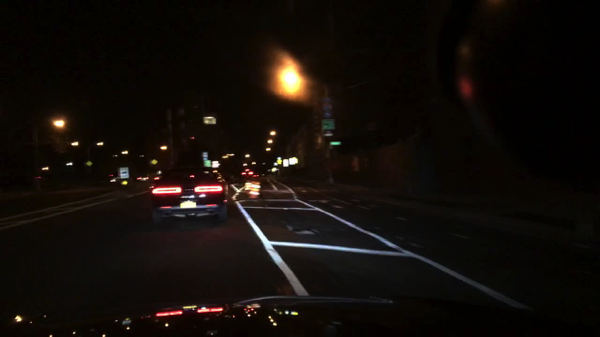car: (151, 167, 227, 226), (134, 173, 151, 182), (240, 168, 255, 178), (254, 171, 266, 178), (110, 177, 124, 183)
traffic sign: (321, 120, 335, 131), (323, 103, 334, 110), (209, 161, 220, 168), (323, 111, 332, 119), (200, 152, 208, 161), (322, 96, 335, 101), (327, 142, 340, 147), (323, 131, 333, 137), (282, 159, 289, 167), (276, 158, 282, 166), (86, 160, 92, 167), (204, 161, 210, 168), (271, 167, 277, 173), (122, 181, 127, 187)
truck: (106, 168, 131, 183)
